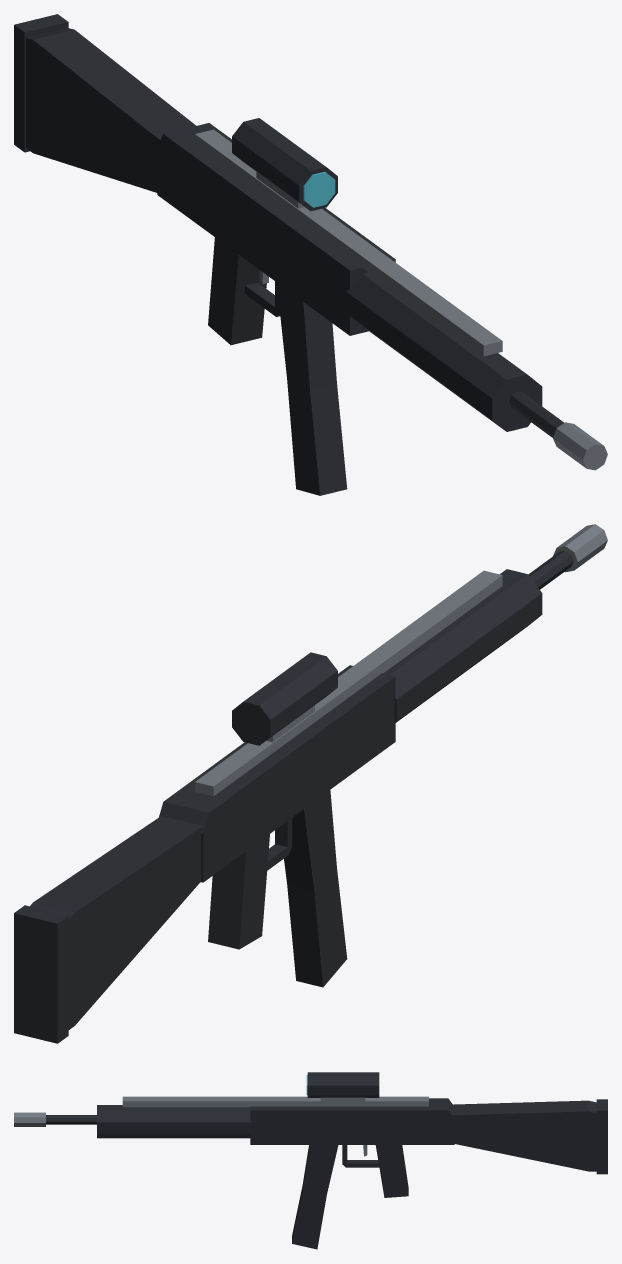
File: rifle_npc.glb
3 renders of one model, top to bottom at view 1: azimuth 30°, elevation 25°; view 2: azimuth 150°, elevation 25°; view 3: azimuth 270°, elevation 25°, orthographic. The views are drawn at different scales.
Visible parts, largest first — view 1: rifle_npc_mesh; view 2: rifle_npc_mesh; view 3: rifle_npc_mesh.
Part boxes in pixels (x1,y1,x2,y2): rifle_npc_mesh: [14, 14, 607, 495]; rifle_npc_mesh: [14, 524, 607, 1043]; rifle_npc_mesh: [14, 1072, 607, 1249].
Bounding box in the file's own units: 0.048 × 0.2965 × 0.93.
1 material, 1 textured.
